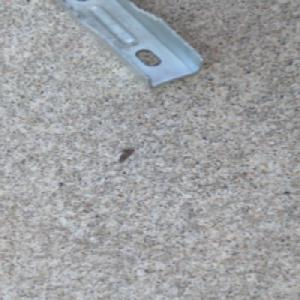ClampPart: (54, 0, 209, 92)
